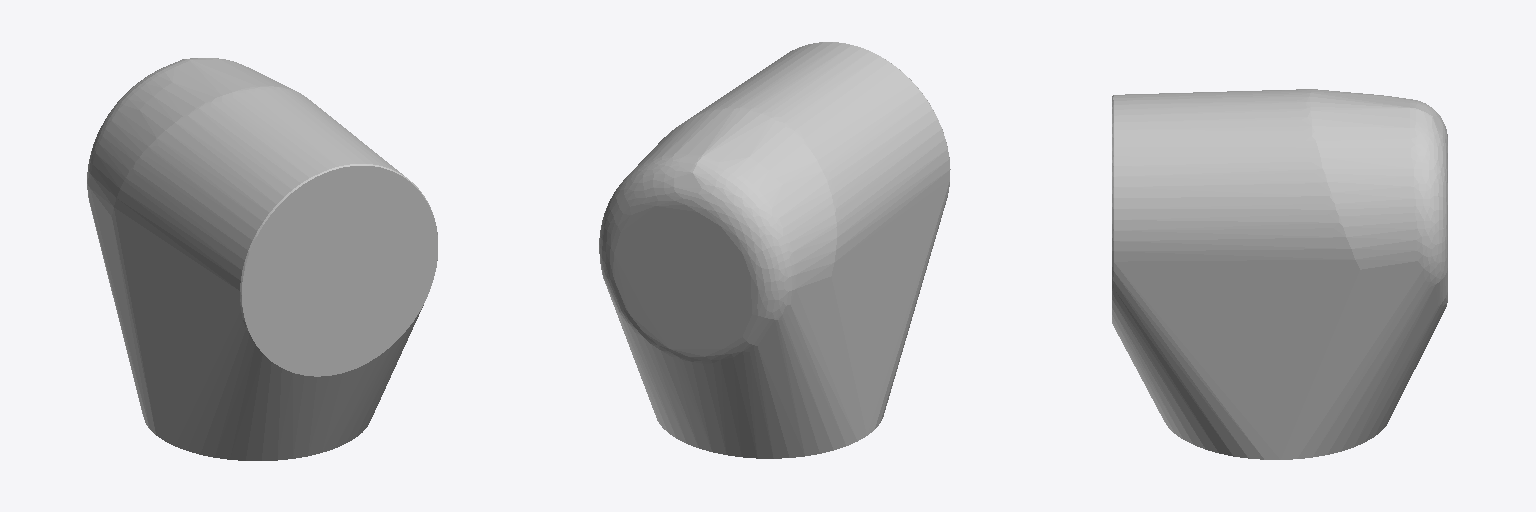
Rendered from wrist_1_link_collisions_wrist1_mesh.obj.
3 views of the same model, side by side, from view 1: azimuth 30°, elevation 25°; view 2: azimuth 150°, elevation 25°; view 3: azimuth 270°, elevation 25° (orthographic).
Bounding box in the file's own units: 0.0787 × 0.1122 × 0.1099.